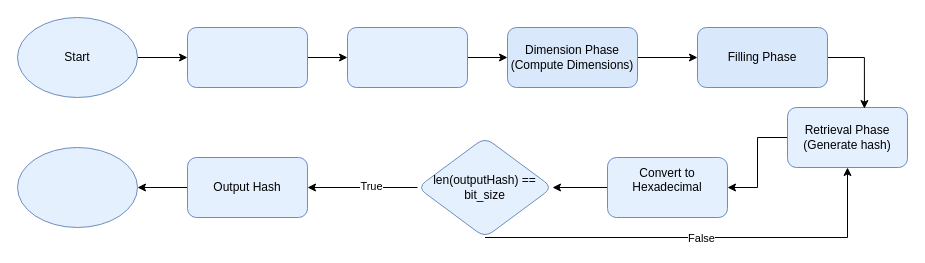
The diagram is 925 pixels wide and 263 high, and some of its shapes have lost their labels. Each missing label, with the centre of its shape:
"End" goes at point 77,187.
"Generate Secure Seed" goes at point 407,57.
"Initialize Input (key,seed,bit_size)" goes at point 247,57.
